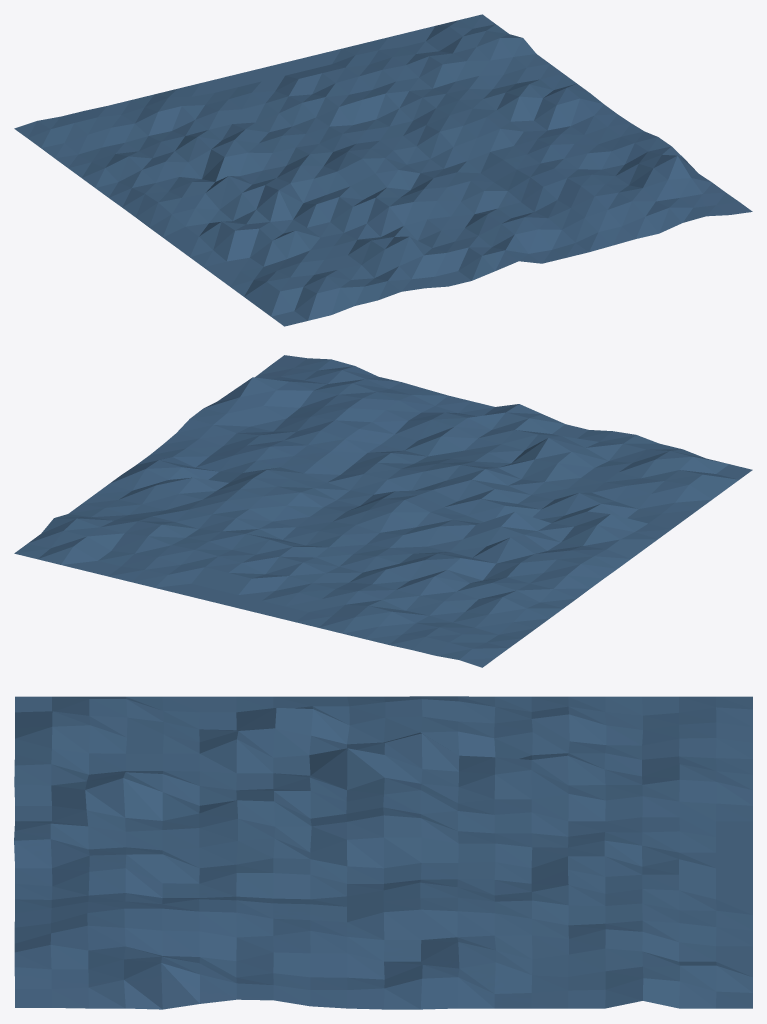
File: Ocean2.0.glb
3 renders of one model, top to bottom at view 1: azimuth 30°, elevation 25°; view 2: azimuth 150°, elevation 25°; view 3: azimuth 270°, elevation 25°, orthographic. The views are drawn at different scales.
Visible parts, largest first — view 1: Node; view 2: Node; view 3: Node.
Part boxes in pixels (bbox=[...]): Node: bbox=[14, 14, 752, 326]; Node: bbox=[14, 355, 752, 667]; Node: bbox=[14, 696, 752, 1009].
Size of the model in its own units: 122 by 6.81 by 123.
1 material, 1 textured.
